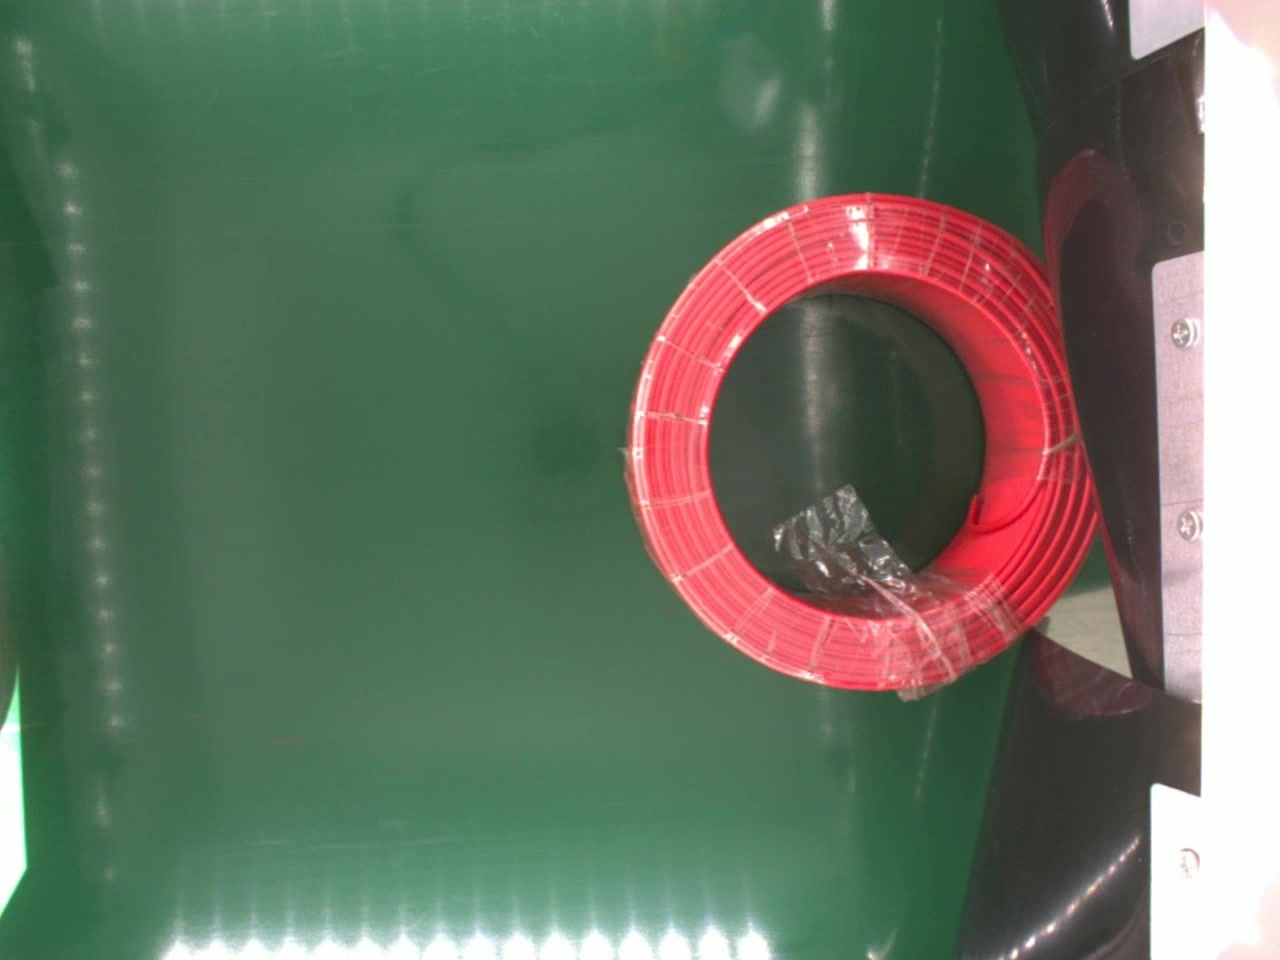red: (619, 189, 1095, 693)
